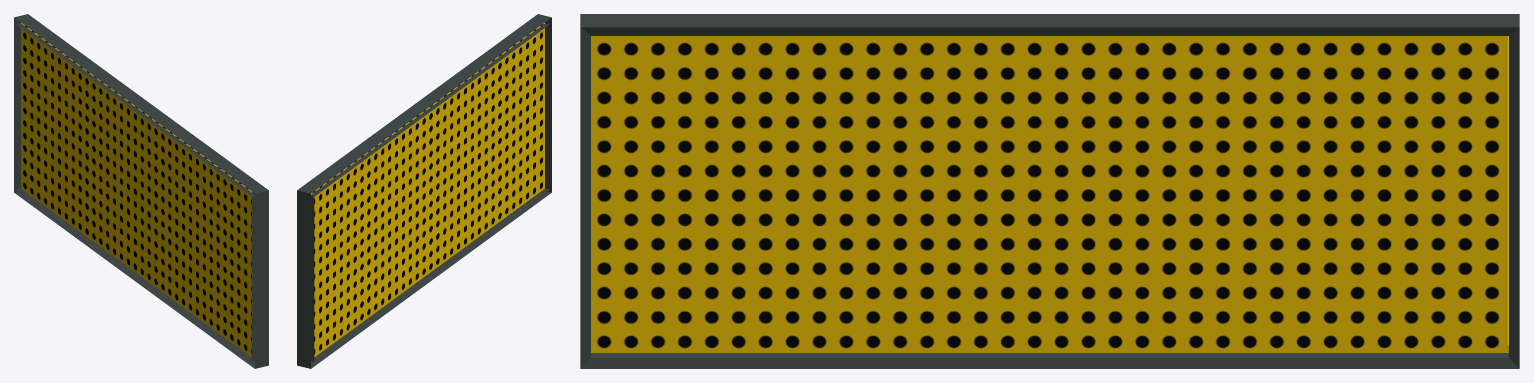
Rendered from SM_yellowboard.fbx.
3 views of the same model, side by side, from view 1: azimuth 30°, elevation 25°; view 2: azimuth 150°, elevation 25°; view 3: azimuth 270°, elevation 25° (orthographic). The views are drawn at different scales.
Visible parts, largest first — view 1: yellowboard; view 2: yellowboard; view 3: yellowboard.
Boxes of the visible parts, x1=… form: yellowboard: x1=14, y1=14, x2=268, y2=368; yellowboard: x1=297, y1=14, x2=551, y2=368; yellowboard: x1=580, y1=14, x2=1519, y2=368.
Size of the model in its own units: 19.42 by 225 by 561.
